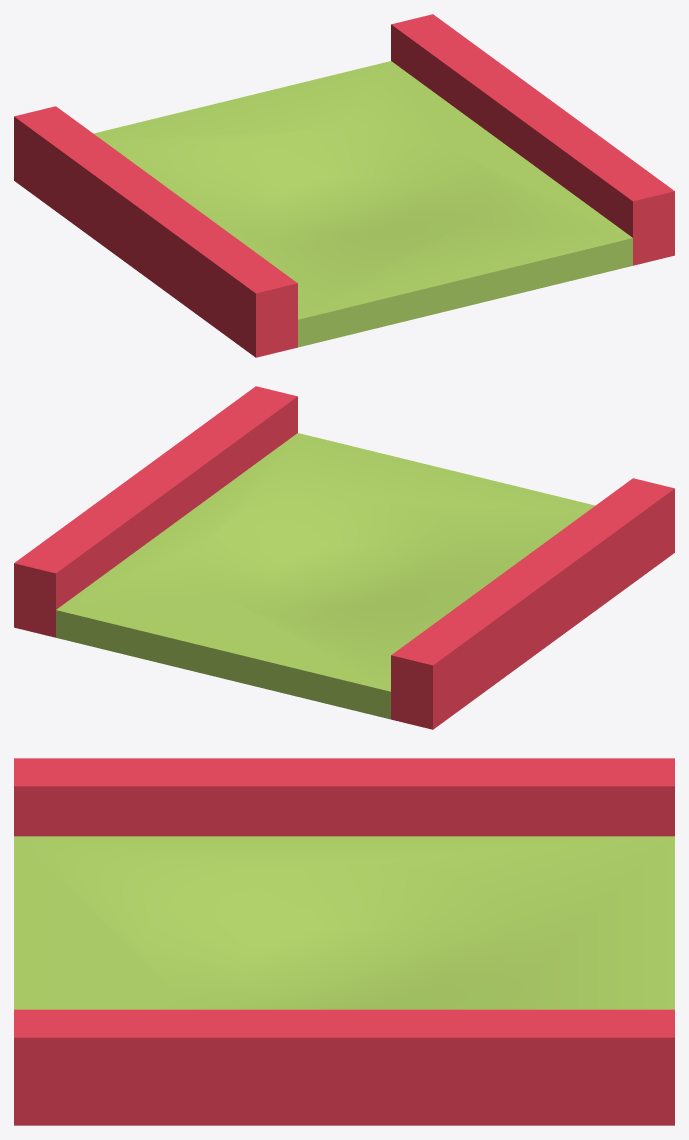
Rendered from bumpDownWalls.fbx.
3 renders of one model, top to bottom at view 1: azimuth 30°, elevation 25°; view 2: azimuth 150°, elevation 25°; view 3: azimuth 270°, elevation 25°, orthographic. The views are drawn at different scales.
Visible parts, largest first — view 1: bumpDownWalls; view 2: bumpDownWalls; view 3: bumpDownWalls.
Boxes of the visible parts, <box> form: bumpDownWalls: <box>14,14,674,357</box>; bumpDownWalls: <box>14,386,674,729</box>; bumpDownWalls: <box>14,758,674,1125</box>.
Size of the model in its own units: 10 by 1.47 by 10.
